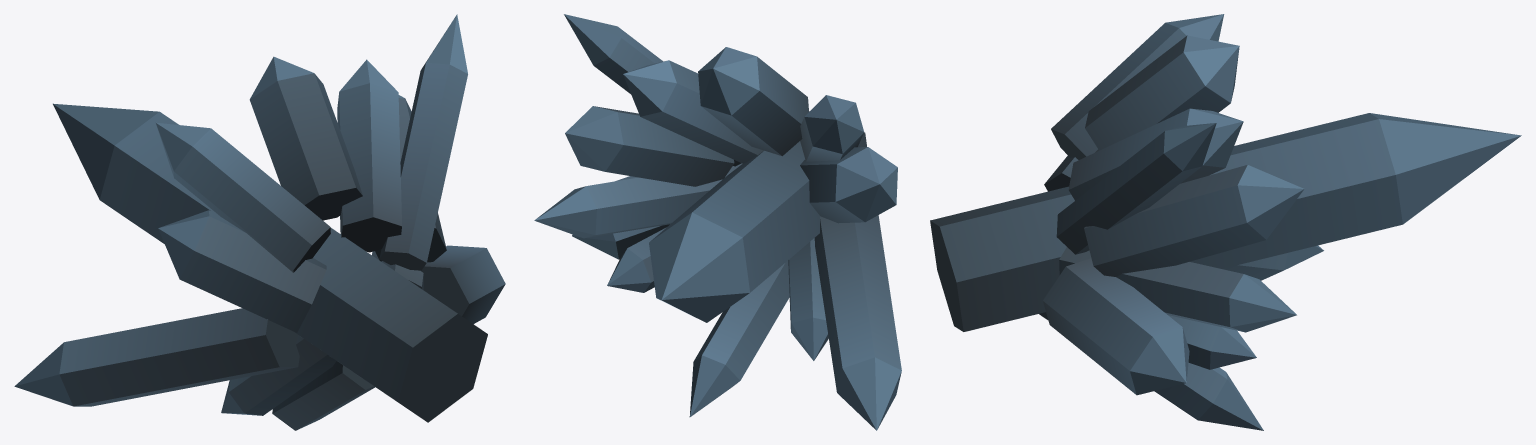
Rendered from CalciteCluster.001.glb.
3 views of the same model, side by side, from view 1: azimuth 30°, elevation 25°; view 2: azimuth 150°, elevation 25°; view 3: azimuth 270°, elevation 25° (orthographic). The views are drawn at different scales.
Parts seen in each view (by area): view 1: CalciteCluster.001; view 2: CalciteCluster.001; view 3: CalciteCluster.001.
Boxes of the visible parts, left/top/right/bottom form: CalciteCluster.001: left=14, top=14, right=505, bottom=430; CalciteCluster.001: left=534, top=14, right=901, bottom=430; CalciteCluster.001: left=930, top=14, right=1521, bottom=430.
Bounding box in the file's own units: 727 × 665 × 921.
